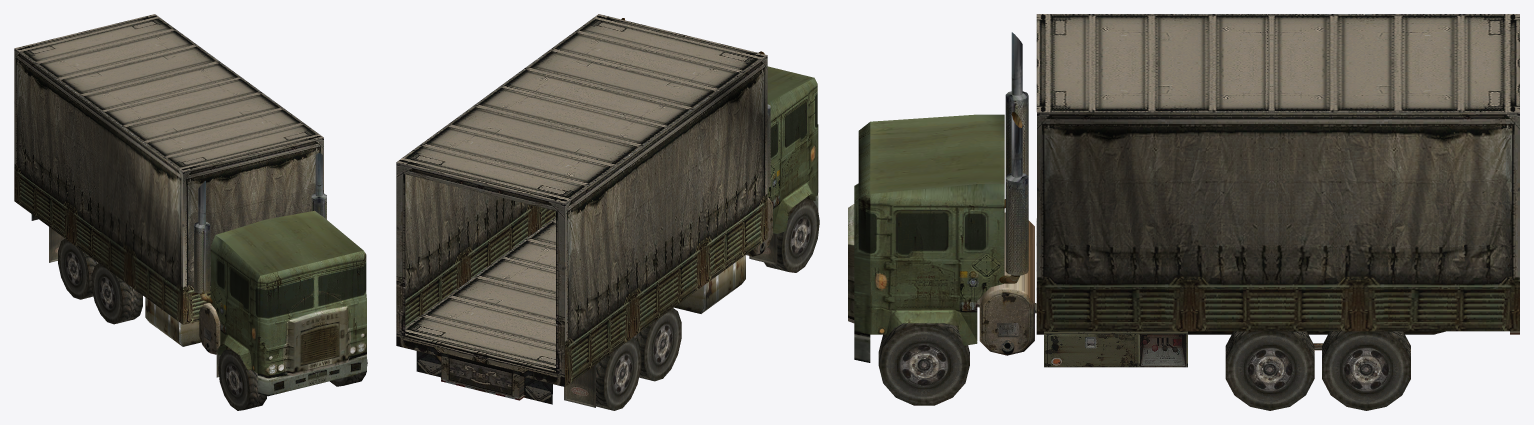
File: Nctruck1.glb
3 renders of one model, left to right at view 1: azimuth 30°, elevation 25°; view 2: azimuth 150°, elevation 25°; view 3: azimuth 270°, elevation 25°, orthographic. The views are drawn at different scales.
Parts seen in each view (by area): view 1: _Nctruck1; view 2: _Nctruck1; view 3: _Nctruck1.
Boxes of the visible parts, <box> form: _Nctruck1: <box>14,14,367,410</box>; _Nctruck1: <box>396,14,819,410</box>; _Nctruck1: <box>848,14,1519,410</box>.
Size of the model in its own units: 2.95 by 4.23 by 8.52.
2 materials, 2 textured.
